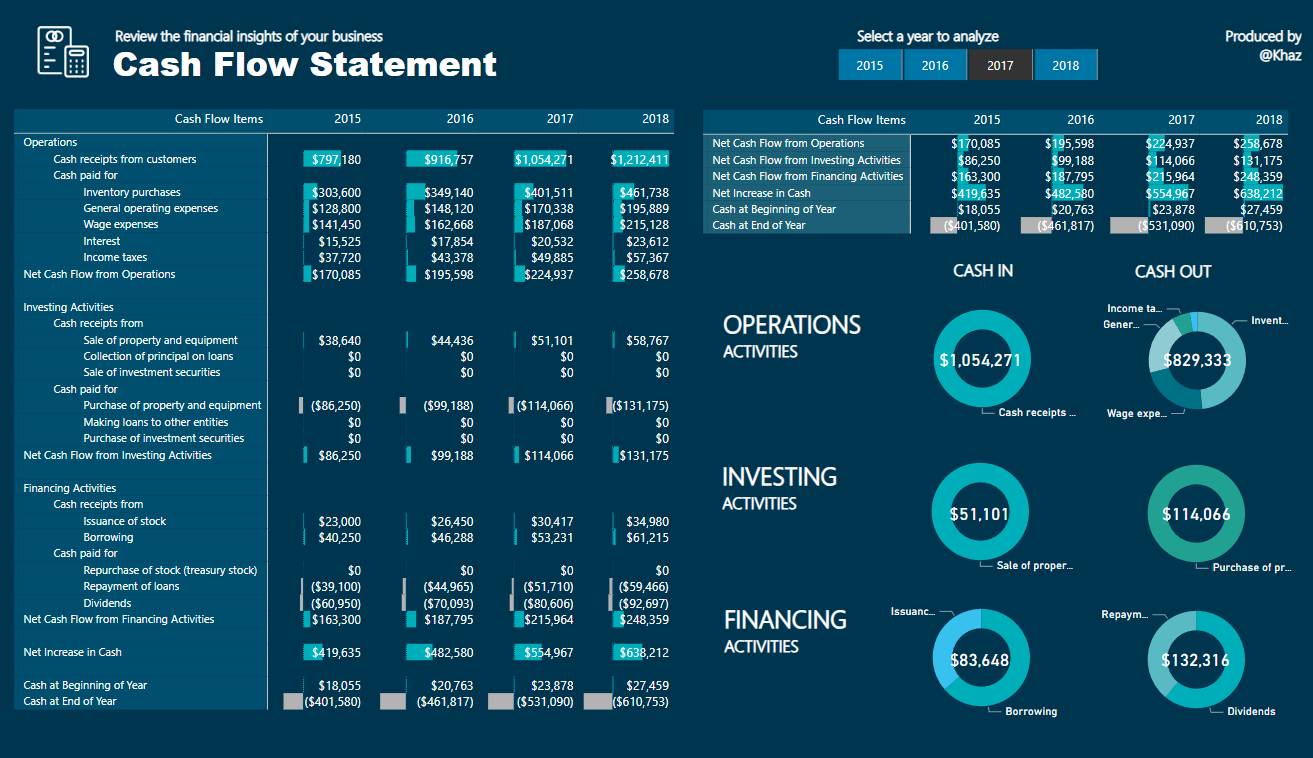

The dashboard page shown, as its layout file describes it:
{"tool":"powerbi","page":{"name":"Cash Flow Statement","canvas":[1280,720],"ordinal":4},"visuals":[{"type":"textbox","box":[105.4,14.7,447.5,67.4],"z":0},{"type":"donutChart","fields":{"Category":["Cash Flow Data.Cash Flow Sub Category"],"Y":["Cash Flow Analysis.Absolute C/F Values"]},"box":[858.5,259.5,195.2,139.1],"z":1000},{"type":"textbox","box":[107.6,0,291.5,34.4],"z":2000},{"type":"image","box":[18.3,1.1,88.2,60.2],"z":3000},{"type":"slicer","fields":{"Values":["Dates.Year"]},"box":[790.6,21.7,302.2,44.5],"z":4000},{"type":"textbox","box":[829.5,0,197.2,31.1],"z":5000},{"type":"textbox","box":[1139,0,133.3,48.6],"z":6000},{"type":"pivotTable","fields":{"Rows":["Cash Flow Template.Row Index","Cash Flow Template.Cash Flow Items"],"Values":["Cash Flow Analysis.C/F Values"],"Columns":["Dates.Year"]},"box":[9.8,82.1,663.3,617.9],"z":8000},{"type":"pivotTable","fields":{"Rows":["Cash Flow Template.Row Index","Cash Flow Template.Cash Flow Items"],"Values":["Cash Flow Analysis.C/F Values"],"Columns":["Dates.Year"]},"box":[680.1,82.3,593.9,137.4],"z":9000},{"type":"textbox","box":[699.7,273,170.3,73.7],"z":10000},{"type":"textbox","box":[698.7,421.5,170.3,73.7],"z":11000},{"type":"textbox","box":[700.7,560.6,170.3,72.7],"z":12000},{"type":"textbox","box":[898,226.3,119.4,37.4],"z":13000},{"type":"textbox","box":[1082.8,227.3,119.4,37.4],"z":14000},{"type":"donutChart","fields":{"Category":["Cash Flow Data.Cash Flow Sub Category"],"Y":["Cash Flow Analysis.Absolute C/F Values"]},"box":[1068.2,261.6,195.2,139.1],"z":15000},{"type":"donutChart","fields":{"Category":["Cash Flow Data.Cash Flow Sub Category"],"Y":["Cash Flow Analysis.Absolute C/F Values"]},"box":[857.1,408.6,195.2,139.1],"z":16000},{"type":"donutChart","fields":{"Category":["Cash Flow Data.Cash Flow Sub Category"],"Y":["Cash Flow Analysis.Absolute C/F Values"]},"box":[1066.8,410.7,195.2,139.1],"z":17000},{"type":"donutChart","fields":{"Category":["Cash Flow Data.Cash Flow Sub Category"],"Y":["Cash Flow Analysis.Absolute C/F Values"]},"box":[857.8,550.5,195.2,139.1],"z":18000},{"type":"donutChart","fields":{"Category":["Cash Flow Data.Cash Flow Sub Category"],"Y":["Cash Flow Analysis.Absolute C/F Values"]},"box":[1067.5,552.6,195.2,139.1],"z":19000},{"type":"card","fields":{"Values":["Cash Flow Analysis.Absolute C/F Values"]},"box":[902.1,312.5,105.9,37.4],"z":20000},{"type":"card","fields":{"Values":["Cash Flow Analysis.Absolute C/F Values"]},"box":[1112.9,312.5,105.9,37.4],"z":21000},{"type":"card","fields":{"Values":["Cash Flow Analysis.Absolute C/F Values"]},"box":[900.7,461.6,105.9,37.4],"z":22000},{"type":"card","fields":{"Values":["Cash Flow Analysis.Absolute C/F Values"]},"box":[1111.4,461.6,105.9,37.4],"z":23000},{"type":"card","fields":{"Values":["Cash Flow Analysis.Absolute C/F Values"]},"box":[900.3,604.5,105.9,37.4],"z":24000},{"type":"card","fields":{"Values":["Cash Flow Analysis.Absolute C/F Values"]},"box":[1111.1,604.5,105.9,37.4],"z":25000}]}

Visuals, with their boxes in screenshot pixels (x1, y1, x2, y2), scaled from the page's 1280x720 canvas onto the 1313x758 screenshot:
textbox: 108, 15, 567, 86
donutChart - Cash Flow Data.Cash Flow Sub Category x Cash Flow Analysis.Absolute C/F Values: 881, 273, 1081, 420
textbox: 110, 0, 409, 36
image: 19, 1, 109, 65
slicer - Dates.Year: 811, 23, 1121, 70
textbox: 851, 0, 1053, 33
textbox: 1168, 0, 1305, 51
pivotTable - Cash Flow Template.Row Index x Cash Flow Template.Cash Flow Items: 10, 86, 690, 737
pivotTable - Cash Flow Template.Row Index x Cash Flow Template.Cash Flow Items: 698, 87, 1307, 231
textbox: 718, 287, 892, 365
textbox: 717, 444, 891, 521
textbox: 719, 590, 893, 667
textbox: 921, 238, 1044, 278
textbox: 1111, 239, 1233, 279
donutChart - Cash Flow Data.Cash Flow Sub Category x Cash Flow Analysis.Absolute C/F Values: 1096, 275, 1296, 422
donutChart - Cash Flow Data.Cash Flow Sub Category x Cash Flow Analysis.Absolute C/F Values: 879, 430, 1079, 577
donutChart - Cash Flow Data.Cash Flow Sub Category x Cash Flow Analysis.Absolute C/F Values: 1094, 432, 1295, 579
donutChart - Cash Flow Data.Cash Flow Sub Category x Cash Flow Analysis.Absolute C/F Values: 880, 580, 1080, 726
donutChart - Cash Flow Data.Cash Flow Sub Category x Cash Flow Analysis.Absolute C/F Values: 1095, 582, 1295, 728
card - Cash Flow Analysis.Absolute C/F Values: 925, 329, 1034, 368
card - Cash Flow Analysis.Absolute C/F Values: 1142, 329, 1250, 368
card - Cash Flow Analysis.Absolute C/F Values: 924, 486, 1033, 525
card - Cash Flow Analysis.Absolute C/F Values: 1140, 486, 1249, 525
card - Cash Flow Analysis.Absolute C/F Values: 924, 636, 1032, 676
card - Cash Flow Analysis.Absolute C/F Values: 1140, 636, 1248, 676
